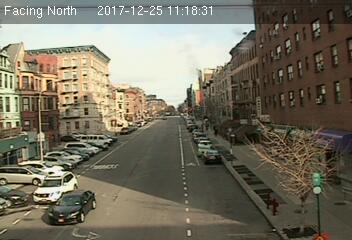car: (45, 190, 96, 224), (33, 170, 79, 204), (202, 150, 221, 163)
